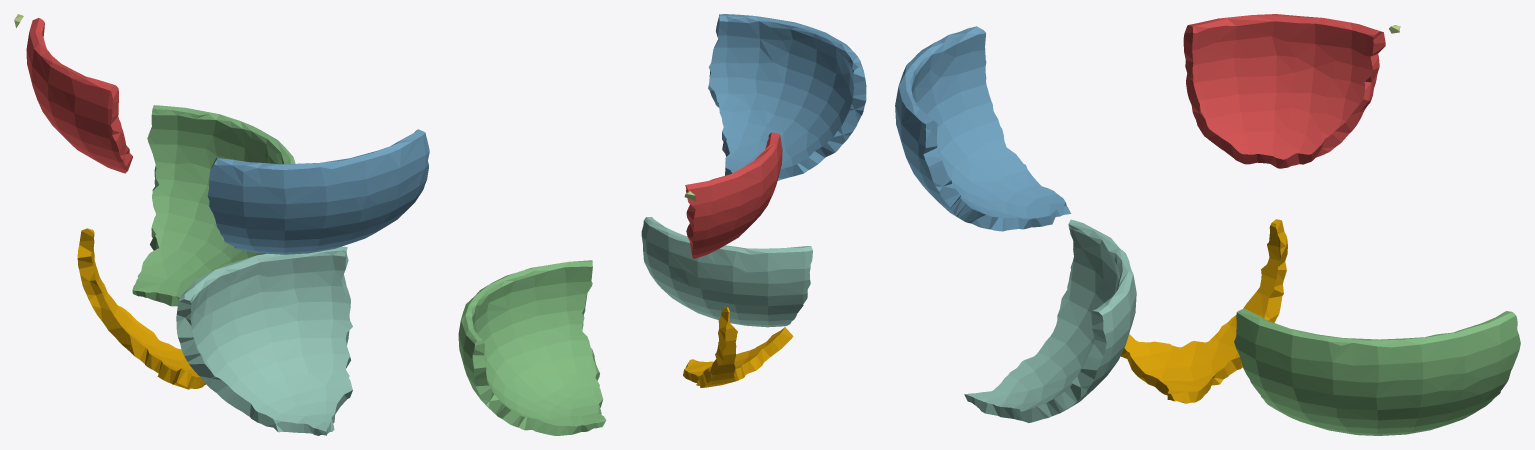
File: fractured_9_6pcs_transformed.glb
3 renders of one model, left to right at view 1: azimuth 30°, elevation 25°; view 2: azimuth 150°, elevation 25°; view 3: azimuth 270°, elevation 25°, orthographic. The views are drawn at different scales.
Parts seen in each view (by area): view 1: piece_4.obj, piece_2.obj, piece_3.obj, piece_1.obj, piece_0.obj; view 2: piece_3.obj, piece_2.obj, piece_4.obj, piece_1.obj, piece_0.obj; view 3: piece_3.obj, piece_1.obj, piece_2.obj, piece_4.obj, piece_0.obj.
Part boxes in pixels (x1,y1,x2,y2): piece_4.obj: (176,246,352,435); piece_2.obj: (207,129,429,254); piece_3.obj: (132,105,295,306); piece_1.obj: (26,18,132,173); piece_0.obj: (77,228,205,389); piece_3.obj: (458,260,606,435); piece_2.obj: (708,14,866,180); piece_4.obj: (641,217,812,327); piece_1.obj: (685,132,782,258); piece_0.obj: (683,307,793,387); piece_3.obj: (1234,308,1520,435); piece_1.obj: (1183,14,1385,168); piece_2.obj: (895,26,1070,231); piece_4.obj: (964,219,1136,422); piece_0.obj: (1120,219,1287,403).
Size of the model in its own units: 0.9998 by 1.04 by 1.81.
